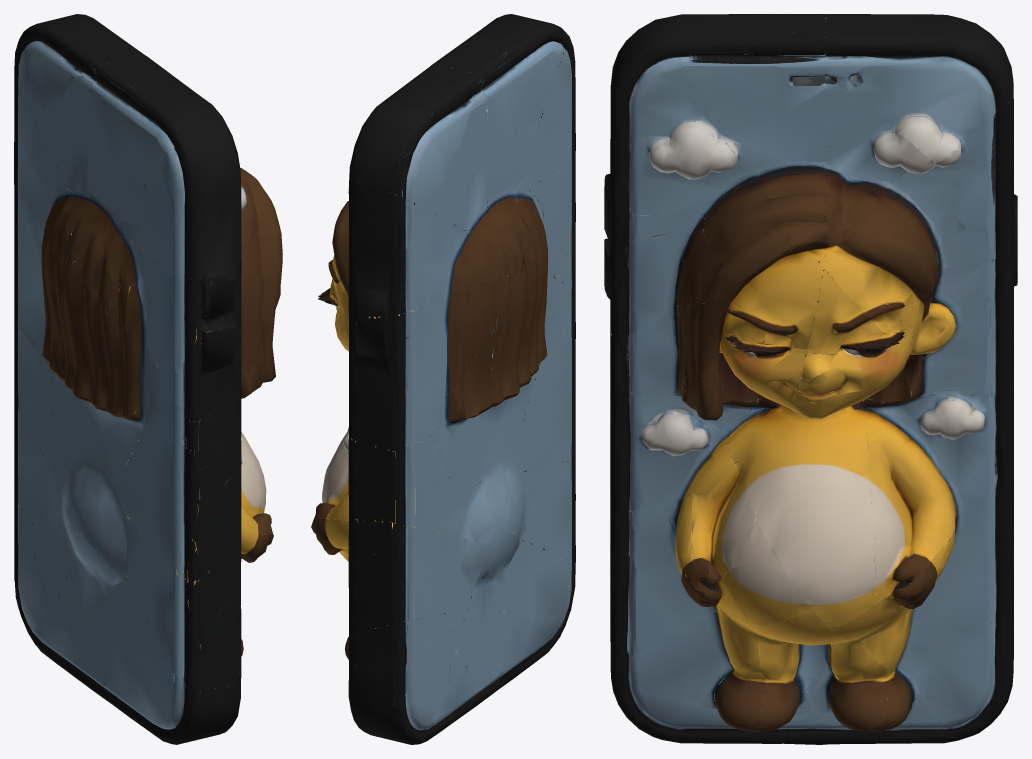
File: naibao_phone_smirk.fbx
3 renders of one model, left to right at view 1: azimuth 30°, elevation 25°; view 2: azimuth 150°, elevation 25°; view 3: azimuth 270°, elevation 25°, orthographic. The views are drawn at different scales.
Parts seen in each view (by area): view 1: node_a48f3696-ca59-4f2b-8bab-e13a568e91c6; view 2: node_a48f3696-ca59-4f2b-8bab-e13a568e91c6; view 3: node_a48f3696-ca59-4f2b-8bab-e13a568e91c6.
Part boxes in pixels (x1,y1,x2,y2): node_a48f3696-ca59-4f2b-8bab-e13a568e91c6: (14, 14, 282, 744); node_a48f3696-ca59-4f2b-8bab-e13a568e91c6: (311, 14, 575, 744); node_a48f3696-ca59-4f2b-8bab-e13a568e91c6: (604, 14, 1017, 744).
Size of the model in its own units: 0.3125 by 0.9999 by 0.5298.
